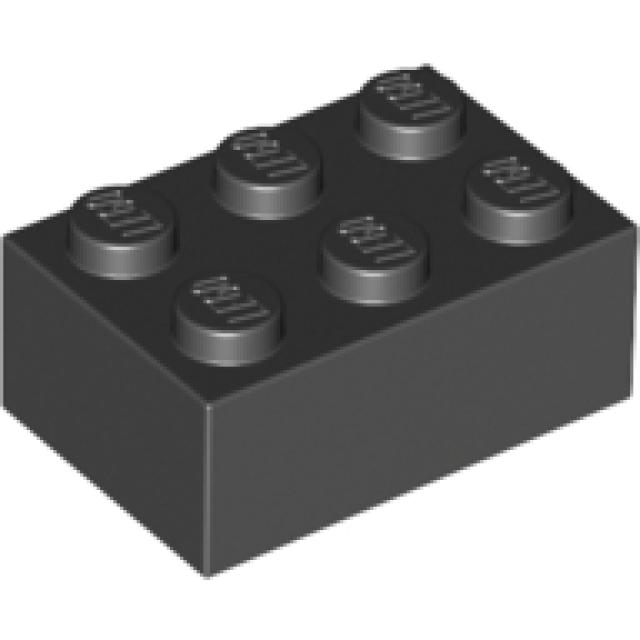Black_Medium: (3, 63, 637, 580)
